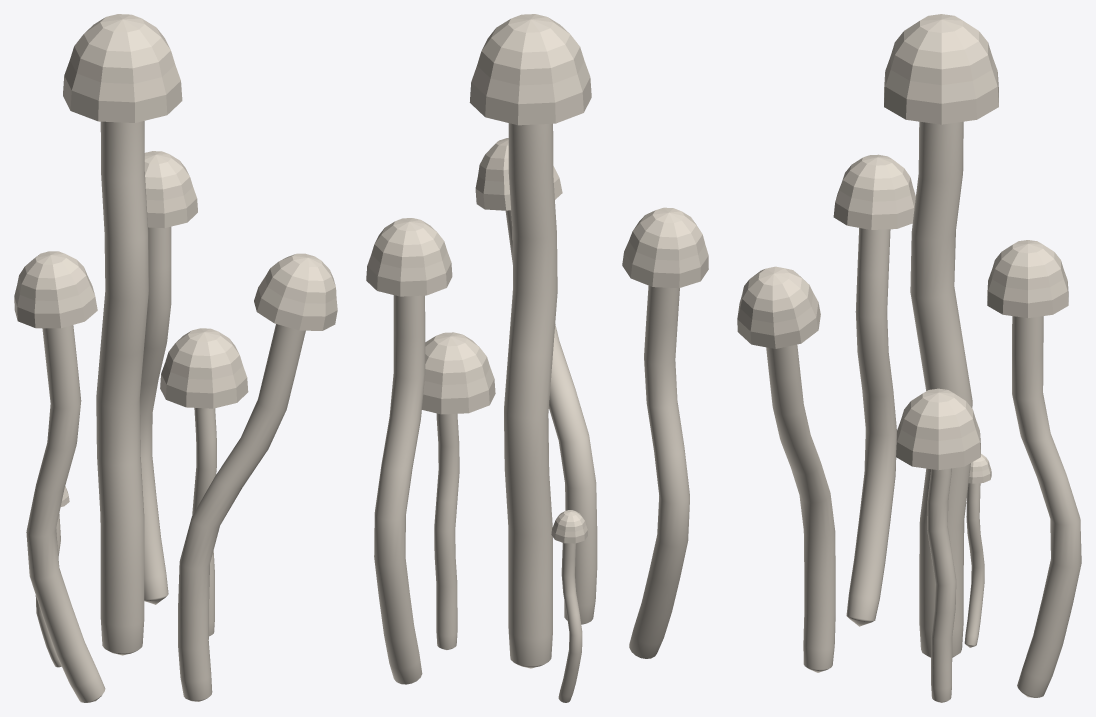
File: OBJ_Big_Mushrooms_Group.obj
3 renders of one model, left to right at view 1: azimuth 30°, elevation 25°; view 2: azimuth 150°, elevation 25°; view 3: azimuth 270°, elevation 25°, orthographic. The views are drawn at different scales.
Parts seen in each view (by area): view 1: pSphere13; view 2: pSphere13; view 3: pSphere13.
Part boxes in pixels (left/top/right/bottom): pSphere13: left=14, top=14, right=337, bottom=702; pSphere13: left=366, top=14, right=708, bottom=702; pSphere13: left=737, top=14, right=1081, bottom=702.
Bounding box in the file's own units: 54.39 × 127 × 60.7.
